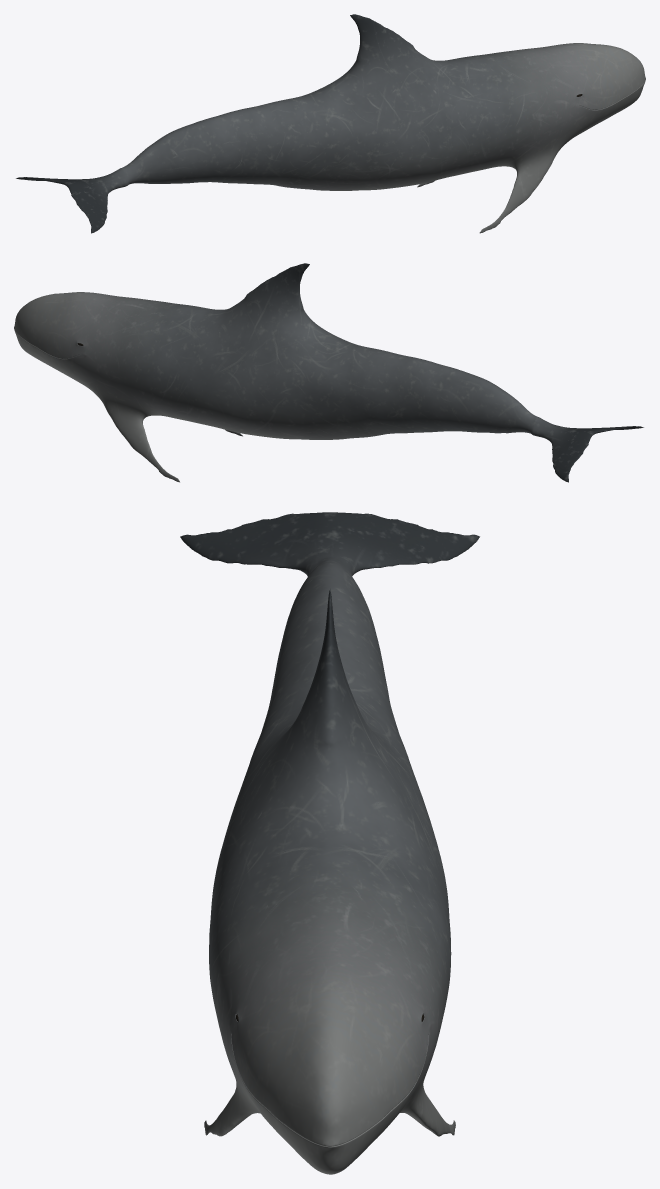
Rendered from model-cetacean-grampus-griseus-v0680.glb.
The picture shows the model from 3 angles, top to bottom: view 1: azimuth 30°, elevation 25°; view 2: azimuth 150°, elevation 25°; view 3: azimuth 270°, elevation 25°; orthographic projection. The views are drawn at different scales.
Parts seen in each view (by area): view 1: Risso — editable source-derived skin; view 2: Risso — editable source-derived skin; view 3: Risso — editable source-derived skin.
Part boxes in pixels (x1,y1,x2,y2): Risso — editable source-derived skin: [16, 14, 645, 233]; Risso — editable source-derived skin: [14, 263, 643, 482]; Risso — editable source-derived skin: [180, 512, 479, 1174].
Bounding box in the file's own units: 3.78 × 1.34 × 0.8398.
Materials: 2 (2 with a texture image).
